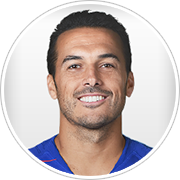face: (44, 39, 137, 131)
